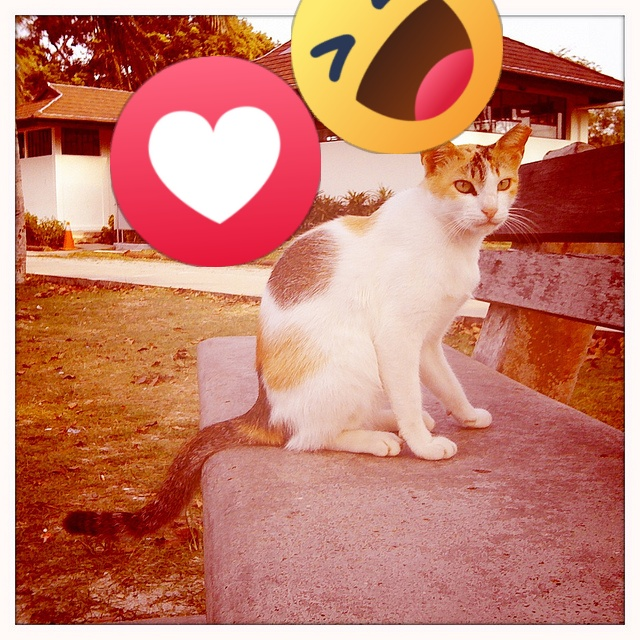haha: (291, 0, 503, 154)
love: (110, 56, 321, 267)
